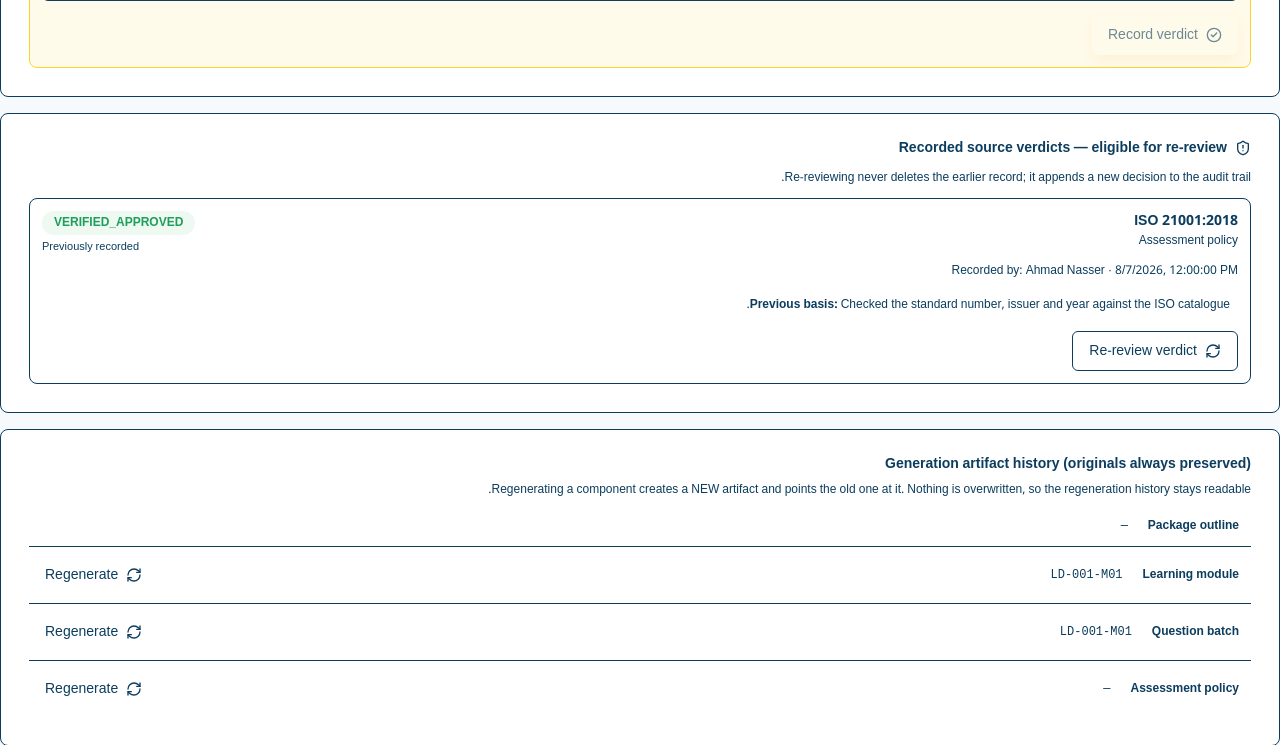
Test: reviewing the draft › keeps a recorded verdict visible and re-reviewable rather than hiding it
(page scrolled)
Check: the heading "Recorded source verdicts — eligible for re-review" is shown, box [899,133,1251,162]
Check: the text "ISO 21001:2018" is shown, box [1134,206,1238,235]
Click the button "Re-review verdict".
click(1155, 351)  # box [1072,331,1238,371]
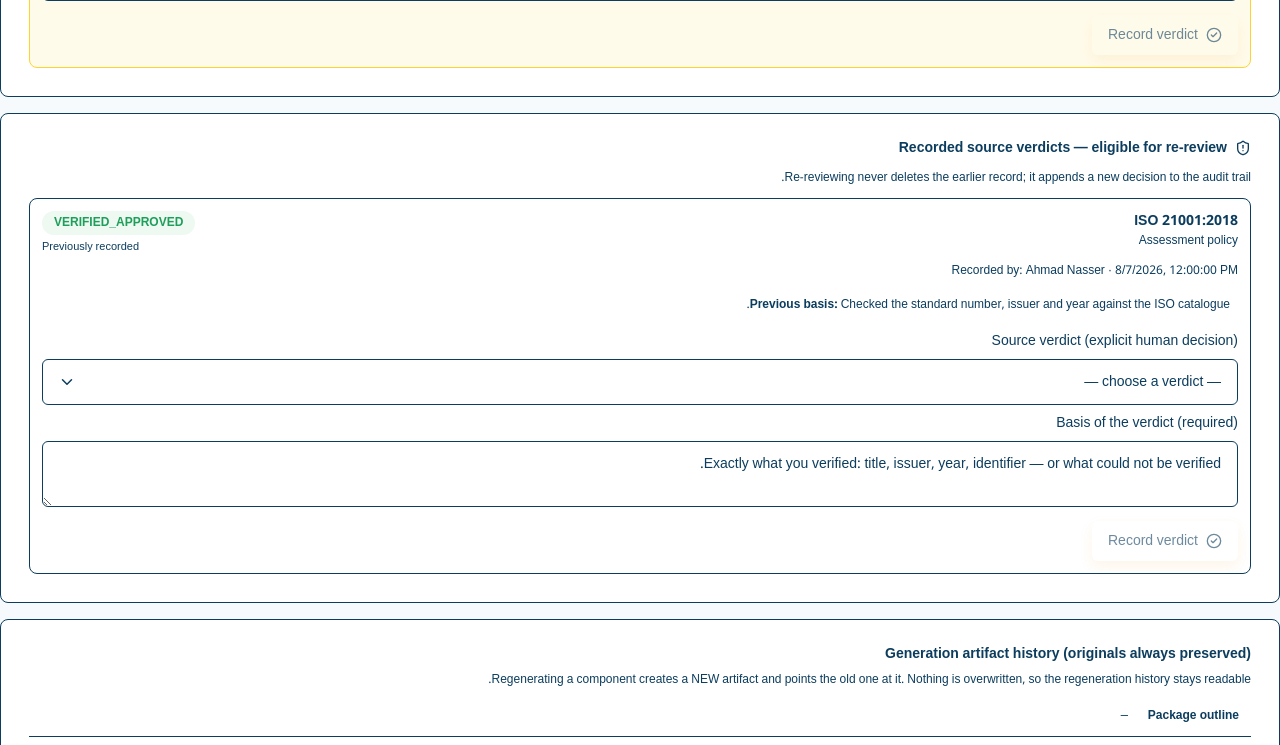
Check: the number of fields labelled "Source verdict (explicit human decision)" is 2
